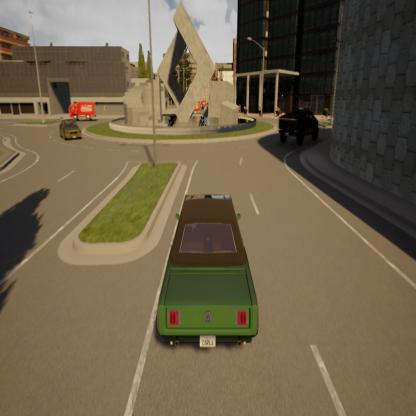Cars: (158, 195, 259, 350), (278, 110, 320, 147), (69, 100, 98, 122), (59, 121, 83, 144)
